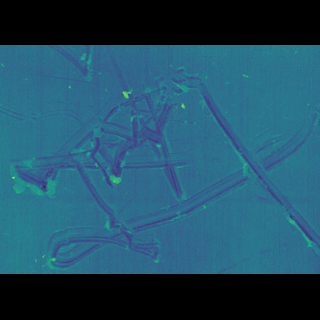Loch: (7, 76, 319, 237)
